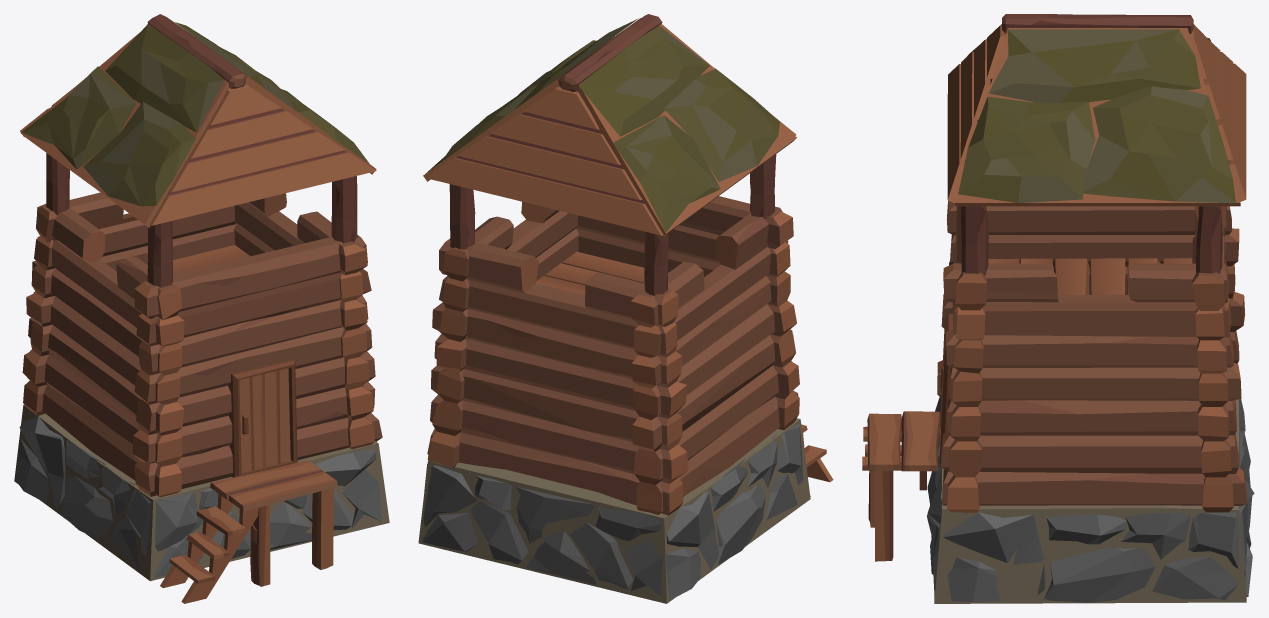
The model's file is watchtower_big.fbx.
3 views of the same model, side by side, from view 1: azimuth 30°, elevation 25°; view 2: azimuth 150°, elevation 25°; view 3: azimuth 270°, elevation 25° (orthographic). The views are drawn at different scales.
Visible parts, largest first — view 1: watchtower_big; view 2: watchtower_big; view 3: watchtower_big.
Boxes of the visible parts, left/top/right/bottom form: watchtower_big: left=14, top=14, right=389, bottom=603; watchtower_big: left=418, top=14, right=833, bottom=603; watchtower_big: left=862, top=14, right=1254, bottom=603.
Bounding box in the file's own units: 221 × 385 × 260.
